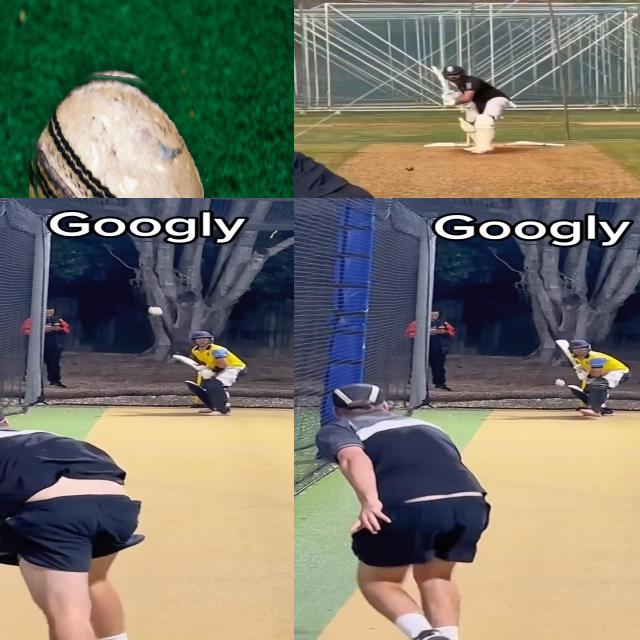Cricket ball: (26, 65, 203, 198), (147, 305, 164, 316), (555, 378, 566, 386), (403, 165, 414, 171)
